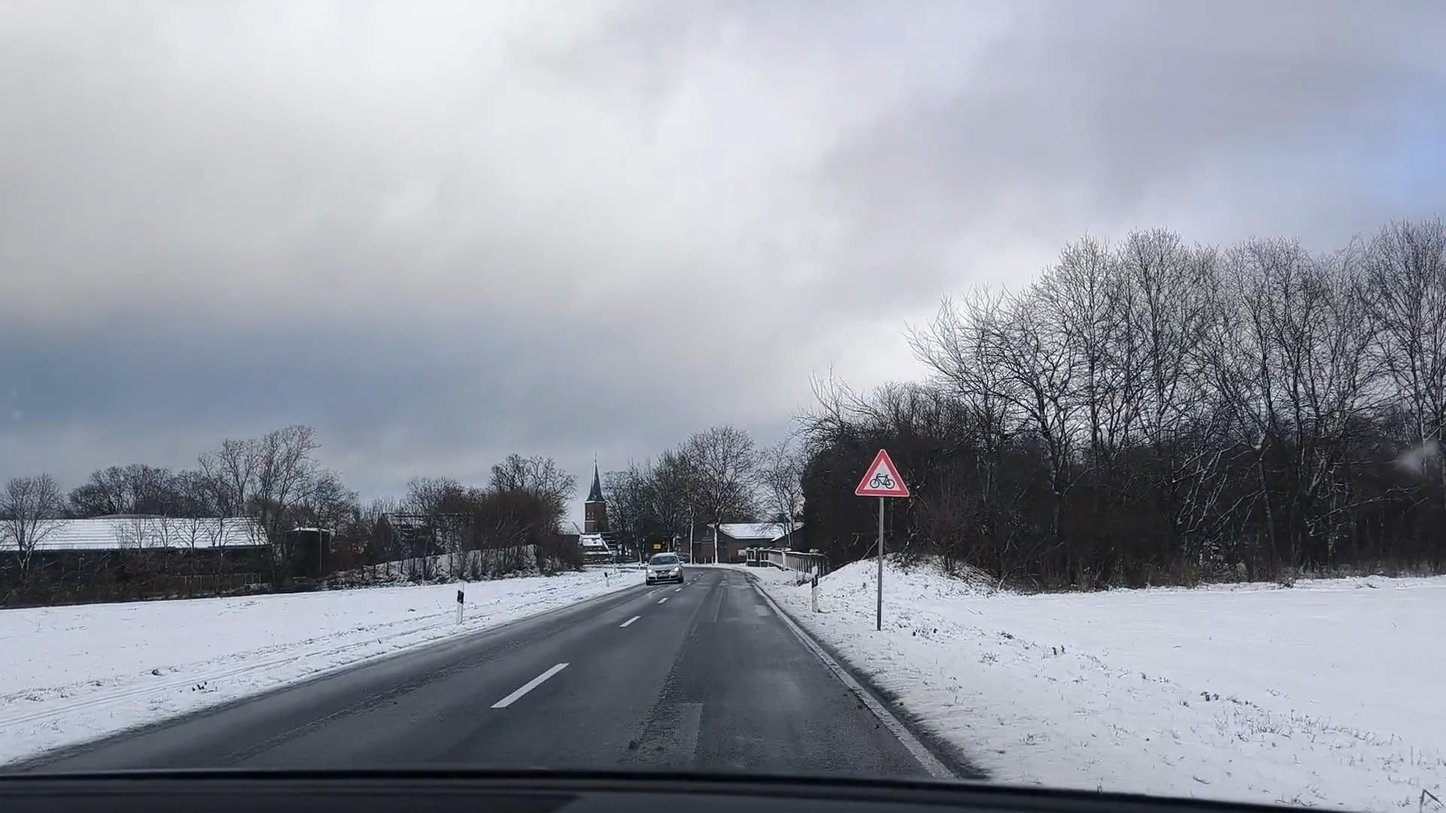Snow: (747, 560, 1446, 812), (0, 568, 641, 766)
dry: (0, 566, 966, 780)
